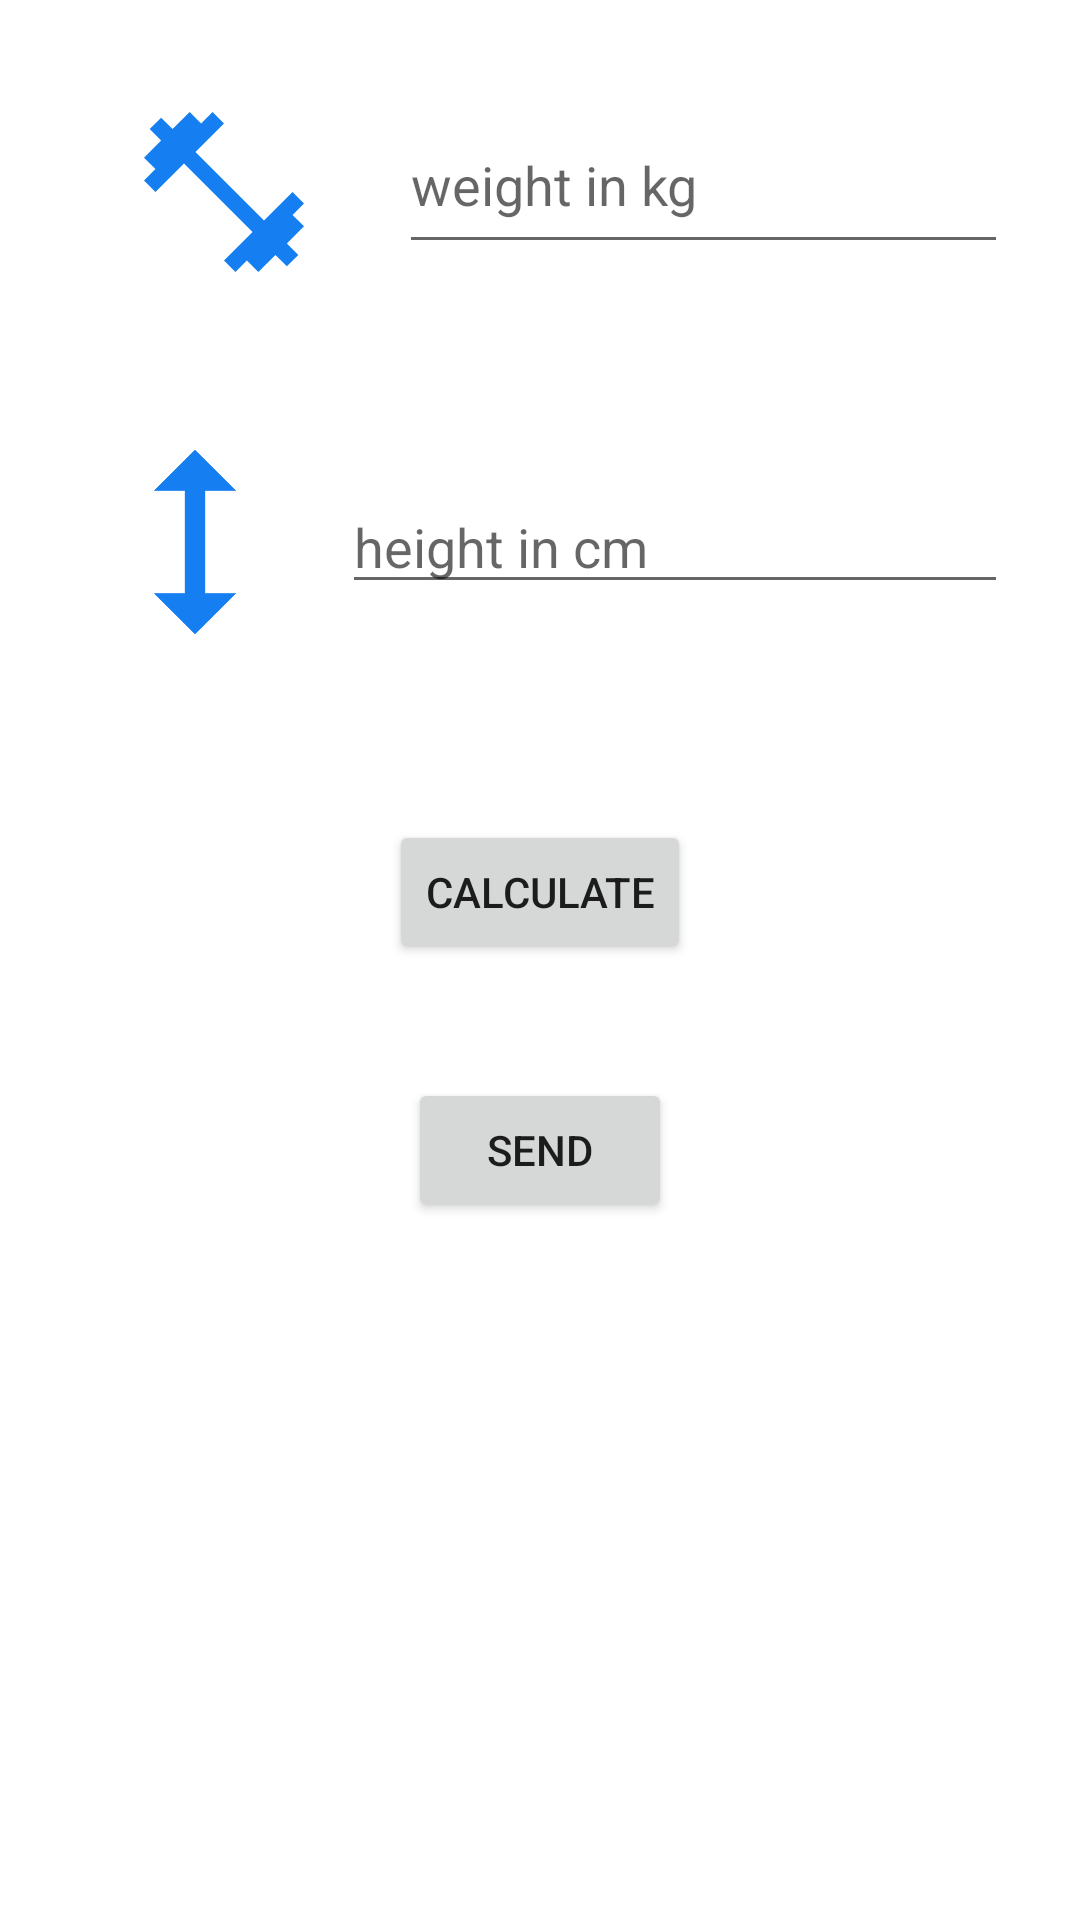

Icon click points for this 1080 × 1920 phone screenshot, format (x,y):
fitness center: (224,192)
